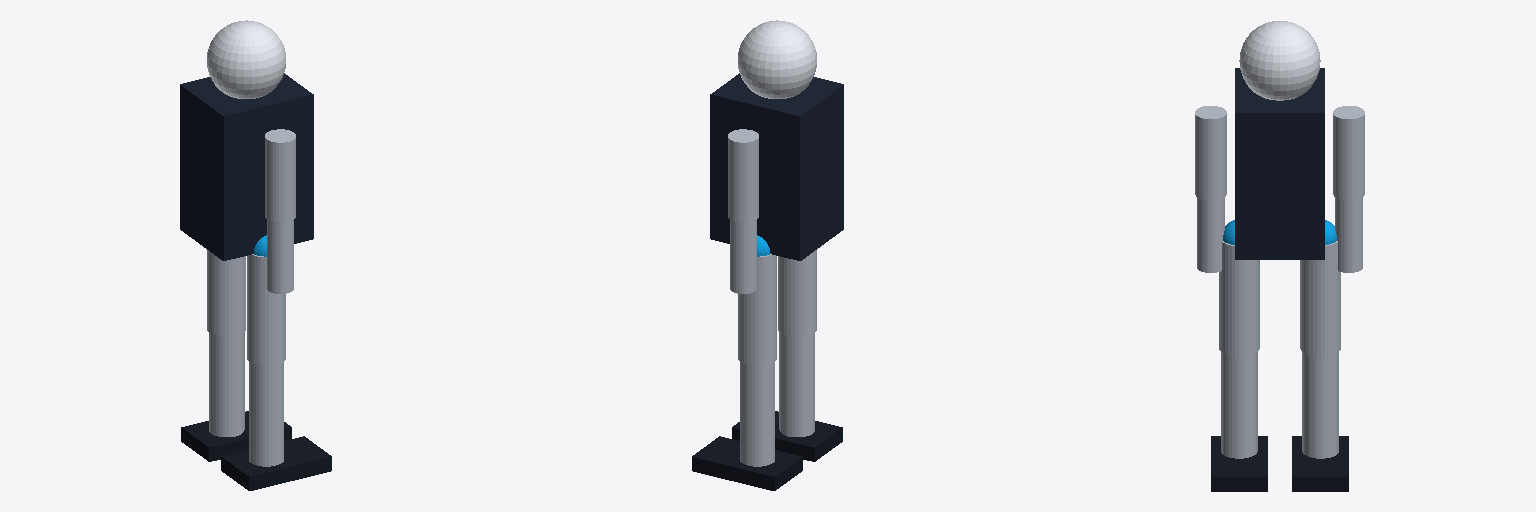
robot.urdf — vr_humanoid:
<?xml version="1.0" encoding="utf-8"?>
<robot name="vr_humanoid">

  <!-- Materials -->
  <material name="torso_mat">
    <color rgba="0.15 0.18 0.24 1.0"/>
  </material>
  <material name="limb_mat">
    <color rgba="0.75 0.78 0.82 1.0"/>
  </material>
  <material name="joint_mat">
    <color rgba="0.10 0.65 0.90 1.0"/>
  </material>
  <material name="head_mat">
    <color rgba="0.90 0.92 0.95 1.0"/>
  </material>
  <material name="visor_mat">
    <color rgba="0.0 0.85 1.0 1.0"/>
  </material>
  <material name="foot_mat">
    <color rgba="0.12 0.14 0.18 1.0"/>
  </material>

  <!-- Torso (Base Link) -->
  <link name="torso">
    <inertial>
      <origin xyz="0 0 0" rpy="0 0 0"/>
      <mass value="12.0"/>
      <inertia ixx="0.22" ixy="0" ixz="0" iyy="0.20" iyz="0" izz="0.12"/>
    </inertial>
    <visual>
      <origin xyz="0 0 0" rpy="0 0 0"/>
      <geometry>
        <box size="0.26 0.22 0.40"/>
      </geometry>
      <material name="torso_mat"/>
    </visual>
    <collision>
      <origin xyz="0 0 0" rpy="0 0 0"/>
      <geometry>
        <box size="0.26 0.22 0.40"/>
      </geometry>
    </collision>
  </link>

  <!-- Head -->
  <link name="head">
    <inertial>
      <origin xyz="0 0 0.08" rpy="0 0 0"/>
      <mass value="2.0"/>
      <inertia ixx="0.015" ixy="0" ixz="0" iyy="0.015" iyz="0" izz="0.015"/>
    </inertial>
    <visual>
      <origin xyz="0 0 0.08" rpy="0 0 0"/>
      <geometry>
        <sphere radius="0.10"/>
      </geometry>
      <material name="head_mat"/>
    </visual>
    <collision>
      <origin xyz="0 0 0.08" rpy="0 0 0"/>
      <geometry>
        <sphere radius="0.10"/>
      </geometry>
    </collision>
  </link>

  <joint name="neck_pitch" type="revolute">
    <parent link="torso"/>
    <child link="head"/>
    <origin xyz="0 0 0.20" rpy="0 0 0"/>
    <axis xyz="0 1 0"/>
    <limit lower="-0.6" upper="0.6" effort="40" velocity="4.0"/>
    <dynamics damping="0.5" friction="0.1"/>
  </joint>

  <!-- Left Upper Arm -->
  <link name="left_upper_arm">
    <inertial>
      <origin xyz="0 0 -0.11" rpy="0 0 0"/>
      <mass value="1.5"/>
      <inertia ixx="0.008" ixy="0" ixz="0" iyy="0.008" iyz="0" izz="0.002"/>
    </inertial>
    <visual>
      <origin xyz="0 0 -0.11" rpy="0 0 0"/>
      <geometry>
        <cylinder radius="0.04" length="0.22"/>
      </geometry>
      <material name="limb_mat"/>
    </visual>
    <collision>
      <origin xyz="0 0 -0.11" rpy="0 0 0"/>
      <geometry>
        <cylinder radius="0.04" length="0.22"/>
      </geometry>
    </collision>
  </link>

  <joint name="left_shoulder_pitch" type="revolute">
    <parent link="torso"/>
    <child link="left_upper_arm"/>
    <origin xyz="0 0.17 0.14" rpy="0 0 0"/>
    <axis xyz="0 1 0"/>
    <limit lower="-1.8" upper="1.8" effort="50" velocity="5.0"/>
    <dynamics damping="0.5" friction="0.1"/>
  </joint>

  <!-- Left Forearm -->
  <link name="left_forearm">
    <inertial>
      <origin xyz="0 0 -0.10" rpy="0 0 0"/>
      <mass value="1.0"/>
      <inertia ixx="0.004" ixy="0" ixz="0" iyy="0.004" iyz="0" izz="0.001"/>
    </inertial>
    <visual>
      <origin xyz="0 0 -0.10" rpy="0 0 0"/>
      <geometry>
        <cylinder radius="0.035" length="0.20"/>
      </geometry>
      <material name="limb_mat"/>
    </visual>
    <collision>
      <origin xyz="0 0 -0.10" rpy="0 0 0"/>
      <geometry>
        <cylinder radius="0.035" length="0.20"/>
      </geometry>
    </collision>
  </link>

  <joint name="left_elbow_pitch" type="revolute">
    <parent link="left_upper_arm"/>
    <child link="left_forearm"/>
    <origin xyz="0 0 -0.22" rpy="0 0 0"/>
    <axis xyz="0 1 0"/>
    <limit lower="0.0" upper="2.2" effort="40" velocity="5.0"/>
    <dynamics damping="0.5" friction="0.1"/>
  </joint>

  <!-- Right Upper Arm -->
  <link name="right_upper_arm">
    <inertial>
      <origin xyz="0 0 -0.11" rpy="0 0 0"/>
      <mass value="1.5"/>
      <inertia ixx="0.008" ixy="0" ixz="0" iyy="0.008" iyz="0" izz="0.002"/>
    </inertial>
    <visual>
      <origin xyz="0 0 -0.11" rpy="0 0 0"/>
      <geometry>
        <cylinder radius="0.04" length="0.22"/>
      </geometry>
      <material name="limb_mat"/>
    </visual>
    <collision>
      <origin xyz="0 0 -0.11" rpy="0 0 0"/>
      <geometry>
        <cylinder radius="0.04" length="0.22"/>
      </geometry>
    </collision>
  </link>

  <joint name="right_shoulder_pitch" type="revolute">
    <parent link="torso"/>
    <child link="right_upper_arm"/>
    <origin xyz="0 -0.17 0.14" rpy="0 0 0"/>
    <axis xyz="0 1 0"/>
    <limit lower="-1.8" upper="1.8" effort="50" velocity="5.0"/>
    <dynamics damping="0.5" friction="0.1"/>
  </joint>

  <!-- Right Forearm -->
  <link name="right_forearm">
    <inertial>
      <origin xyz="0 0 -0.10" rpy="0 0 0"/>
      <mass value="1.0"/>
      <inertia ixx="0.004" ixy="0" ixz="0" iyy="0.004" iyz="0" izz="0.001"/>
    </inertial>
    <visual>
      <origin xyz="0 0 -0.10" rpy="0 0 0"/>
      <geometry>
        <cylinder radius="0.035" length="0.20"/>
      </geometry>
      <material name="limb_mat"/>
    </visual>
    <collision>
      <origin xyz="0 0 -0.10" rpy="0 0 0"/>
      <geometry>
        <cylinder radius="0.035" length="0.20"/>
      </geometry>
    </collision>
  </link>

  <joint name="right_elbow_pitch" type="revolute">
    <parent link="right_upper_arm"/>
    <child link="right_forearm"/>
    <origin xyz="0 0 -0.22" rpy="0 0 0"/>
    <axis xyz="0 1 0"/>
    <limit lower="0.0" upper="2.2" effort="40" velocity="5.0"/>
    <dynamics damping="0.5" friction="0.1"/>
  </joint>

  <!-- Left Hip Intermediate (Roll) -->
  <link name="left_hip_link">
    <inertial>
      <origin xyz="0 0 0" rpy="0 0 0"/>
      <mass value="0.2"/>
      <inertia ixx="0.001" ixy="0" ixz="0" iyy="0.001" iyz="0" izz="0.001"/>
    </inertial>
    <visual>
      <origin xyz="0 0 0" rpy="0 0 0"/>
      <geometry>
        <sphere radius="0.045"/>
      </geometry>
      <material name="joint_mat"/>
    </visual>
  </link>

  <joint name="left_hip_roll" type="revolute">
    <parent link="torso"/>
    <child link="left_hip_link"/>
    <origin xyz="0 0.10 -0.20" rpy="0 0 0"/>
    <axis xyz="1 0 0"/>
    <limit lower="-0.35" upper="0.35" effort="120" velocity="4.0"/>
    <dynamics damping="1.0" friction="0.2"/>
  </joint>

  <!-- Left Thigh (Pitch) -->
  <link name="left_thigh">
    <inertial>
      <origin xyz="0 0 -0.15" rpy="0 0 0"/>
      <mass value="3.5"/>
      <inertia ixx="0.03" ixy="0" ixz="0" iyy="0.03" iyz="0" izz="0.006"/>
    </inertial>
    <visual>
      <origin xyz="0 0 -0.15" rpy="0 0 0"/>
      <geometry>
        <cylinder radius="0.05" length="0.30"/>
      </geometry>
      <material name="limb_mat"/>
    </visual>
    <collision>
      <origin xyz="0 0 -0.15" rpy="0 0 0"/>
      <geometry>
        <cylinder radius="0.05" length="0.30"/>
      </geometry>
    </collision>
  </link>

  <joint name="left_hip_pitch" type="revolute">
    <parent link="left_hip_link"/>
    <child link="left_thigh"/>
    <origin xyz="0 0 0" rpy="0 0 0"/>
    <axis xyz="0 1 0"/>
    <limit lower="-1.2" upper="1.2" effort="300" velocity="5.0"/>
    <dynamics damping="1.5" friction="0.2"/>
  </joint>

  <!-- Left Shin -->
  <link name="left_shin">
    <inertial>
      <origin xyz="0 0 -0.14" rpy="0 0 0"/>
      <mass value="2.5"/>
      <inertia ixx="0.02" ixy="0" ixz="0" iyy="0.02" iyz="0" izz="0.004"/>
    </inertial>
    <visual>
      <origin xyz="0 0 -0.14" rpy="0 0 0"/>
      <geometry>
        <cylinder radius="0.045" length="0.28"/>
      </geometry>
      <material name="limb_mat"/>
    </visual>
    <collision>
      <origin xyz="0 0 -0.14" rpy="0 0 0"/>
      <geometry>
        <cylinder radius="0.045" length="0.28"/>
      </geometry>
    </collision>
  </link>

  <joint name="left_knee_pitch" type="revolute">
    <parent link="left_thigh"/>
    <child link="left_shin"/>
    <origin xyz="0 0 -0.30" rpy="0 0 0"/>
    <axis xyz="0 1 0"/>
    <limit lower="0.0" upper="2.2" effort="300" velocity="5.0"/>
    <dynamics damping="1.5" friction="0.2"/>
  </joint>

  <!-- Left Foot -->
  <link name="left_foot">
    <inertial>
      <origin xyz="0.03 0 -0.02" rpy="0 0 0"/>
      <mass value="1.5"/>
      <inertia ixx="0.005" ixy="0" ixz="0" iyy="0.008" iyz="0" izz="0.009"/>
    </inertial>
    <visual>
      <origin xyz="0.03 0 -0.02" rpy="0 0 0"/>
      <geometry>
        <box size="0.24 0.14 0.04"/>
      </geometry>
      <material name="foot_mat"/>
    </visual>
    <collision>
      <origin xyz="0.03 0 -0.02" rpy="0 0 0"/>
      <geometry>
        <box size="0.24 0.14 0.04"/>
      </geometry>
    </collision>
  </link>

  <joint name="left_ankle_pitch" type="revolute">
    <parent link="left_shin"/>
    <child link="left_foot"/>
    <origin xyz="0 0 -0.28" rpy="0 0 0"/>
    <axis xyz="0 1 0"/>
    <limit lower="-0.7" upper="0.7" effort="250" velocity="5.0"/>
    <dynamics damping="1.5" friction="0.2"/>
  </joint>

  <!-- Right Hip Intermediate (Roll) -->
  <link name="right_hip_link">
    <inertial>
      <origin xyz="0 0 0" rpy="0 0 0"/>
      <mass value="0.2"/>
      <inertia ixx="0.001" ixy="0" ixz="0" iyy="0.001" iyz="0" izz="0.001"/>
    </inertial>
    <visual>
      <origin xyz="0 0 0" rpy="0 0 0"/>
      <geometry>
        <sphere radius="0.045"/>
      </geometry>
      <material name="joint_mat"/>
    </visual>
  </link>

  <joint name="right_hip_roll" type="revolute">
    <parent link="torso"/>
    <child link="right_hip_link"/>
    <origin xyz="0 -0.10 -0.20" rpy="0 0 0"/>
    <axis xyz="1 0 0"/>
    <limit lower="-0.35" upper="0.35" effort="120" velocity="4.0"/>
    <dynamics damping="1.0" friction="0.2"/>
  </joint>

  <!-- Right Thigh (Pitch) -->
  <link name="right_thigh">
    <inertial>
      <origin xyz="0 0 -0.15" rpy="0 0 0"/>
      <mass value="3.5"/>
      <inertia ixx="0.03" ixy="0" ixz="0" iyy="0.03" iyz="0" izz="0.006"/>
    </inertial>
    <visual>
      <origin xyz="0 0 -0.15" rpy="0 0 0"/>
      <geometry>
        <cylinder radius="0.05" length="0.30"/>
      </geometry>
      <material name="limb_mat"/>
    </visual>
    <collision>
      <origin xyz="0 0 -0.15" rpy="0 0 0"/>
      <geometry>
        <cylinder radius="0.05" length="0.30"/>
      </geometry>
    </collision>
  </link>

  <joint name="right_hip_pitch" type="revolute">
    <parent link="right_hip_link"/>
    <child link="right_thigh"/>
    <origin xyz="0 0 0" rpy="0 0 0"/>
    <axis xyz="0 1 0"/>
    <limit lower="-1.2" upper="1.2" effort="300" velocity="5.0"/>
    <dynamics damping="1.5" friction="0.2"/>
  </joint>

  <!-- Right Shin -->
  <link name="right_shin">
    <inertial>
      <origin xyz="0 0 -0.14" rpy="0 0 0"/>
      <mass value="2.5"/>
      <inertia ixx="0.02" ixy="0" ixz="0" iyy="0.02" iyz="0" izz="0.004"/>
    </inertial>
    <visual>
      <origin xyz="0 0 -0.14" rpy="0 0 0"/>
      <geometry>
        <cylinder radius="0.045" length="0.28"/>
      </geometry>
      <material name="limb_mat"/>
    </visual>
    <collision>
      <origin xyz="0 0 -0.14" rpy="0 0 0"/>
      <geometry>
        <cylinder radius="0.045" length="0.28"/>
      </geometry>
    </collision>
  </link>

  <joint name="right_knee_pitch" type="revolute">
    <parent link="right_thigh"/>
    <child link="right_shin"/>
    <origin xyz="0 0 -0.30" rpy="0 0 0"/>
    <axis xyz="0 1 0"/>
    <limit lower="0.0" upper="2.2" effort="300" velocity="5.0"/>
    <dynamics damping="1.5" friction="0.2"/>
  </joint>

  <!-- Right Foot -->
  <link name="right_foot">
    <inertial>
      <origin xyz="0.03 0 -0.02" rpy="0 0 0"/>
      <mass value="1.5"/>
      <inertia ixx="0.005" ixy="0" ixz="0" iyy="0.008" iyz="0" izz="0.009"/>
    </inertial>
    <visual>
      <origin xyz="0.03 0 -0.02" rpy="0 0 0"/>
      <geometry>
        <box size="0.24 0.14 0.04"/>
      </geometry>
      <material name="foot_mat"/>
    </visual>
    <collision>
      <origin xyz="0.03 0 -0.02" rpy="0 0 0"/>
      <geometry>
        <box size="0.24 0.14 0.04"/>
      </geometry>
    </collision>
  </link>

  <joint name="right_ankle_pitch" type="revolute">
    <parent link="right_shin"/>
    <child link="right_foot"/>
    <origin xyz="0 0 -0.28" rpy="0 0 0"/>
    <axis xyz="0 1 0"/>
    <limit lower="-0.7" upper="0.7" effort="250" velocity="5.0"/>
    <dynamics damping="1.5" friction="0.2"/>
  </joint>

</robot>

--- Render facts (derived) ---
Views: 3 orthographic renders of the robot side by side, from view 1: azimuth 30°, elevation 25°; view 2: azimuth 150°, elevation 25°; view 3: azimuth 270°, elevation 25°.
Robot: vr_humanoid — 14 links, 13 joints (13 revolute); root link torso; default pose: every joint at zero.
Visible links, largest first — view 1: torso, head, left_shin, right_thigh, right_shin, right_foot, left_thigh, right_upper_arm, right_forearm, left_foot; view 2: torso, head, right_shin, left_thigh, left_shin, left_foot, right_thigh, left_upper_arm, left_forearm, right_foot; view 3: torso, head, left_thigh, right_thigh, left_shin, right_shin, left_upper_arm, right_upper_arm, left_foot, right_foot, left_forearm, right_forearm.
Boxes of the visible links, left/top/right/bottom form: torso: left=180, top=73, right=313, bottom=260; head: left=207, top=20, right=285, bottom=98; left_shin: left=209, top=332, right=244, bottom=436; right_thigh: left=247, top=254, right=285, bottom=365; right_shin: left=249, top=362, right=283, bottom=466; right_foot: left=221, top=436, right=331, bottom=490; left_thigh: left=207, top=250, right=245, bottom=336; right_upper_arm: left=265, top=129, right=295, bottom=221; right_forearm: left=267, top=220, right=293, bottom=293; left_foot: left=181, top=411, right=291, bottom=461; torso: left=710, top=73, right=843, bottom=260; head: left=738, top=20, right=816, bottom=98; right_shin: left=779, top=332, right=814, bottom=436; left_thigh: left=738, top=254, right=776, bottom=365; left_shin: left=740, top=362, right=774, bottom=466; left_foot: left=692, top=436, right=802, bottom=490; right_thigh: left=778, top=250, right=816, bottom=336; left_upper_arm: left=728, top=129, right=758, bottom=221; left_forearm: left=730, top=220, right=756, bottom=293; right_foot: left=732, top=411, right=842, bottom=461; torso: left=1235, top=68, right=1324, bottom=259; head: left=1239, top=21, right=1320, bottom=100; left_thigh: left=1300, top=241, right=1340, bottom=356; right_thigh: left=1219, top=241, right=1259, bottom=356; left_shin: left=1302, top=352, right=1338, bottom=458; right_shin: left=1221, top=352, right=1257, bottom=458; left_upper_arm: left=1333, top=106, right=1364, bottom=199; right_upper_arm: left=1195, top=106, right=1226, bottom=199; left_foot: left=1292, top=436, right=1348, bottom=491; right_foot: left=1211, top=436, right=1267, bottom=491; left_forearm: left=1335, top=197, right=1362, bottom=272; right_forearm: left=1197, top=197, right=1224, bottom=272.
Bounding box of the posed robot: 0.28 × 0.42 × 1.2 m (x, y, z).
Geometry: primitives only (box / cylinder / sphere), no mesh files.
